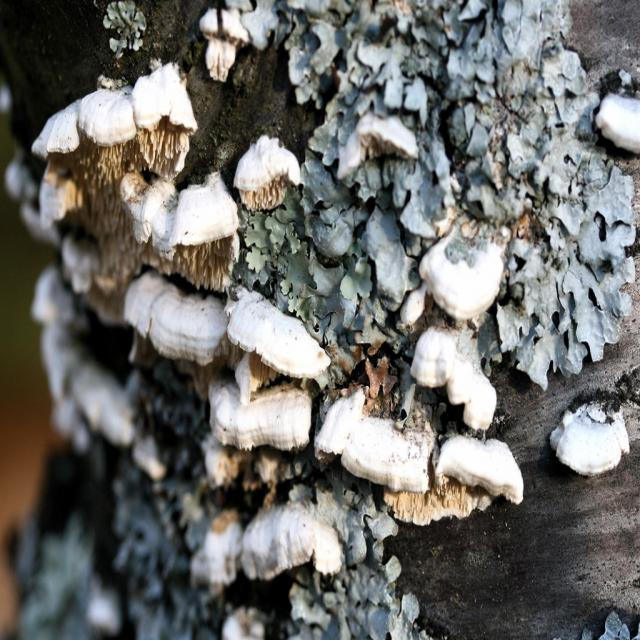Mushroom: (3, 11, 631, 639), (230, 132, 294, 218)
